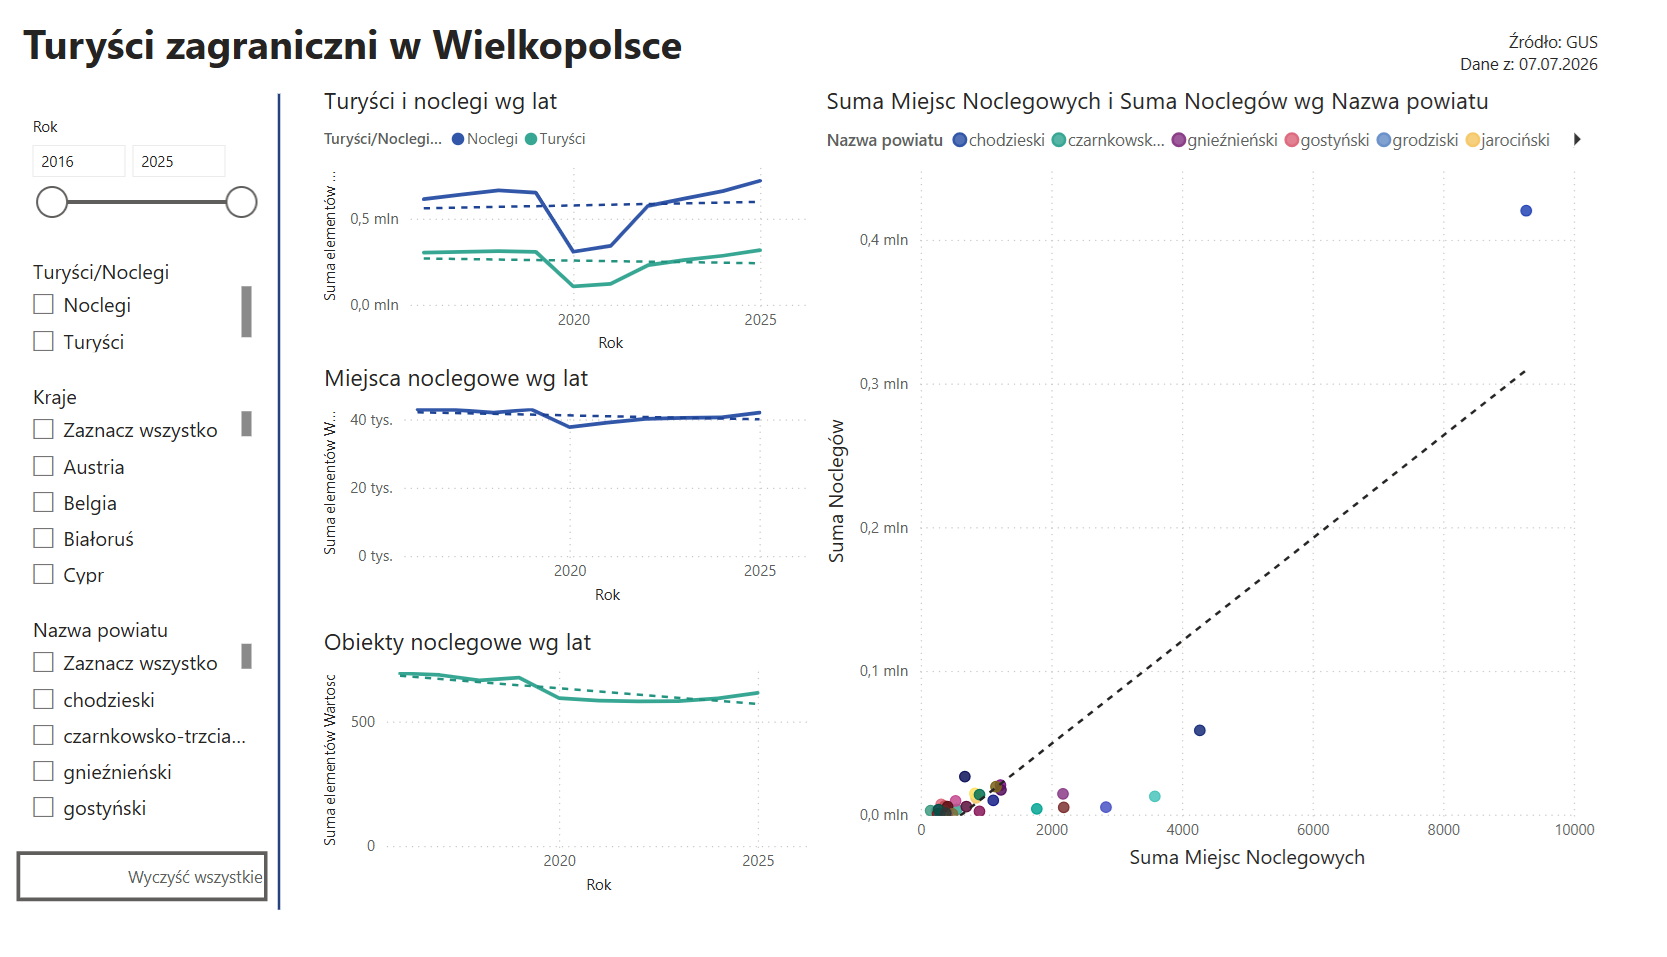

The dashboard page shown, as its layout file describes it:
{"tool":"powerbi","page":{"name":"Miejsca noclegowe","canvas":[1280,720],"ordinal":4},"visuals":[{"type":"slicer","fields":{"Values":["DANE_Wielkopolska.Rok"]},"box":[9.7,79.8,201.3,99.2],"z":0},{"type":"shape","box":[211.1,67.1,17.5,652.6],"z":1000},{"type":"slicer","fields":{"Values":["DANE_Wielkopolska.Kraje"]},"box":[9.7,292.8,193.6,172.2],"z":2000},{"type":"slicer","fields":{"Values":["DANE_Wielkopolska.Nazwa powiatu"]},"box":[9.7,479,193.6,179.9],"z":3000},{"type":"textbox","box":[9.7,0,892.9,59.3],"z":4000},{"type":"slicer","fields":{"Values":["DANE_Wielkopolska.Turyści/Noclegi - etykieta"]},"box":[9.7,193.6,193.6,99.2],"z":5000},{"type":"actionButton","box":[9.7,673.1,201.3,39.9],"z":6000},{"type":"textbox","box":[1122.1,10.7,157.6,56.4],"z":7000},{"type":"scatterChart","title":"Stosunek noclegów turystów zagranicznych do miejsc noclegowych w powiatach z wyłączeniem miasta Poznań","fields":{"Series":["DANE_Wielkopolska.Nazwa powiatu"],"X":["Sum(MiejscaNoclegowe.Wartosc)"],"Y":["Sum(DANE_Wielkopolska.Wartosc)"]},"box":[653.3,58.9,624.4,634.4],"z":8000},{"type":"lineChart","title":"Turyści i noclegi wg lat","fields":{"Category":["DANE_Wielkopolska.Rok"],"Series":["DANE_Wielkopolska.Turyści/Noclegi - etykieta"],"Y":["Sum(DANE_Wielkopolska.Wartosc)"]},"box":[251.1,58.9,402.2,220],"z":9000},{"type":"lineChart","title":"Miejsca noclegowe wg lat","fields":{"Category":["MiejscaNoclegowe.Rok"],"Series":["MiejscaNoclegowe.Obiekty, miejsca i pokoje"],"Y":["Sum(MiejscaNoclegowe.Wartosc)"]},"box":[251.1,281.1,402.2,198.9],"z":10000},{"type":"lineChart","title":"Obiekty noclegowe wg lat","fields":{"Category":["MiejscaNoclegowe.Rok"],"Series":["MiejscaNoclegowe.Obiekty, miejsca i pokoje"],"Y":["Sum(MiejscaNoclegowe.Wartosc)"]},"box":[251.1,492.2,402.2,220],"z":11000},{"type":"actionButton","box":[991.1,10.7,148.8,56.4],"z":12000}]}

Visuals, with their boxes in screenshot pixels (x1, y1, x2, y2), scaled from the page's 1280x720 canvas onto the 1667x957 screenshot:
slicer - DANE_Wielkopolska.Rok: <box>13,106,275,238</box>
shape: <box>275,89,298,956</box>
slicer - DANE_Wielkopolska.Kraje: <box>13,389,265,618</box>
slicer - DANE_Wielkopolska.Nazwa powiatu: <box>13,637,265,876</box>
textbox: <box>13,0,1175,79</box>
slicer - DANE_Wielkopolska.Turyści/Noclegi - etykieta: <box>13,257,265,389</box>
actionButton: <box>13,895,275,948</box>
textbox: <box>1461,14,1666,89</box>
"Stosunek noclegów turystów zagranicznych do miejsc noclegowych w powiatach z wyłączeniem miasta Poznań" scatterChart: <box>851,78,1664,922</box>
"Turyści i noclegi wg lat" lineChart: <box>327,78,851,371</box>
"Miejsca noclegowe wg lat" lineChart: <box>327,374,851,638</box>
"Obiekty noclegowe wg lat" lineChart: <box>327,654,851,947</box>
actionButton: <box>1291,14,1485,89</box>
